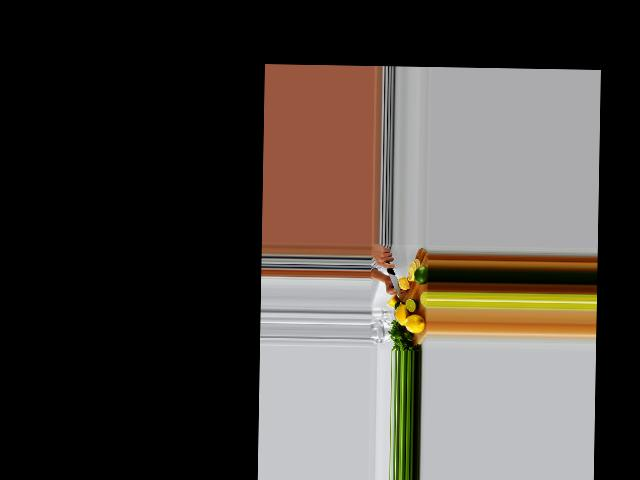lemon: (404, 312, 424, 336)
